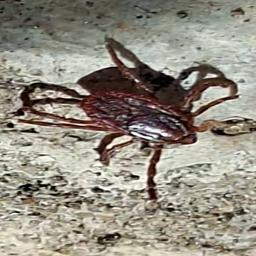Rhipicephalus sanguineus: (26, 41, 237, 200)
